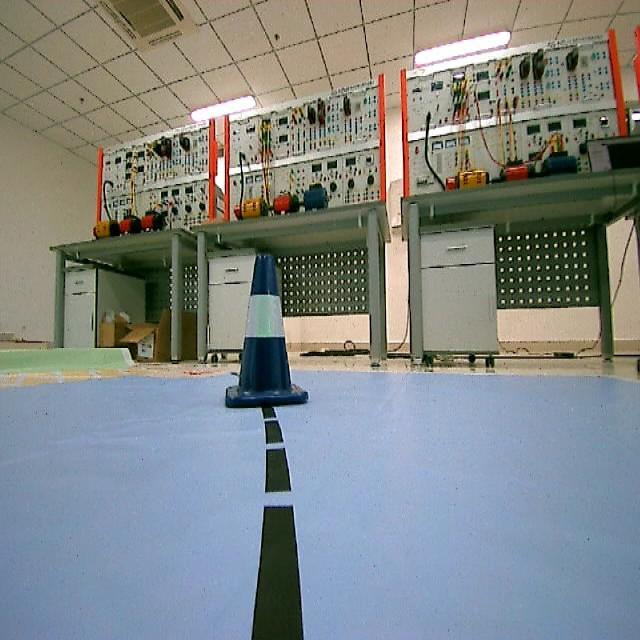obstacle: (226, 248, 312, 412)
